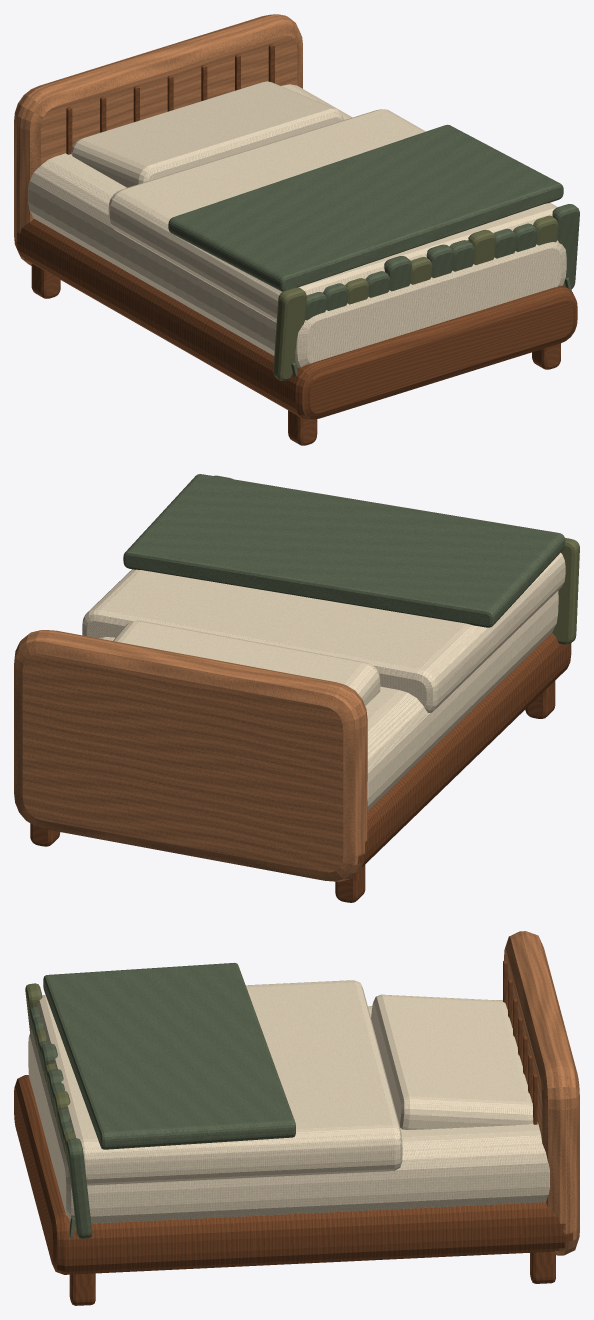
The model's file is bed.glb.
The picture shows the model from 3 angles, top to bottom: view 1: azimuth 30°, elevation 25°; view 2: azimuth 150°, elevation 25°; view 3: azimuth 270°, elevation 25°; orthographic projection. The views are drawn at different scales.
Parts seen in each view (by area): view 1: bed, blanket; view 2: bed, blanket; view 3: bed, blanket.
Part boxes in pixels (<box>): bed: <box>14,14,577,445</box>; blanket: <box>168,124,579,380</box>; bed: <box>14,552,571,902</box>; blanket: <box>123,474,579,644</box>; bed: <box>14,931,579,1305</box>; blanket: <box>25,962,295,1238</box>.
Bounding box in the file's own units: 1.26 × 0.685 × 1.64.
Materials: 5 (5 with a texture image).
